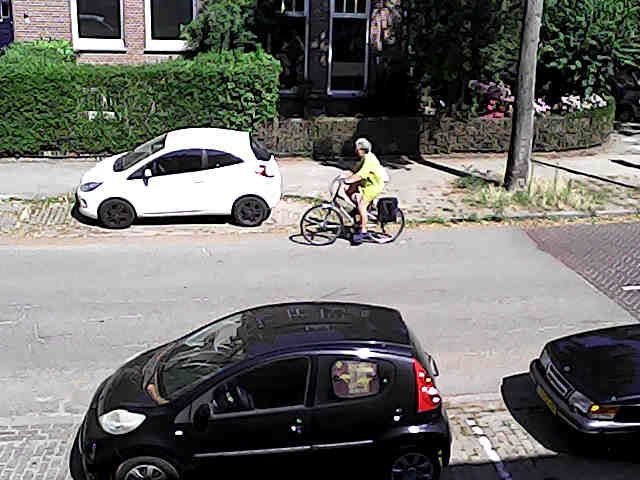male: (344, 138, 384, 243)
suv: (70, 303, 450, 479), (76, 128, 281, 228), (530, 325, 639, 433)
